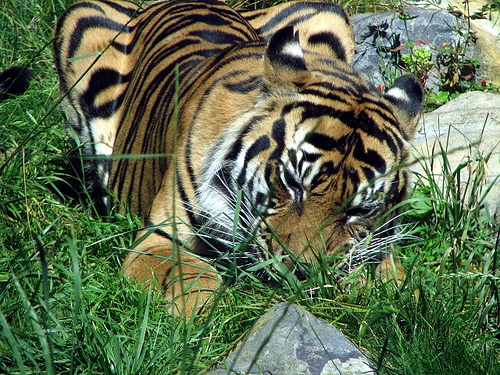Tigre: (84, 10, 400, 281)
